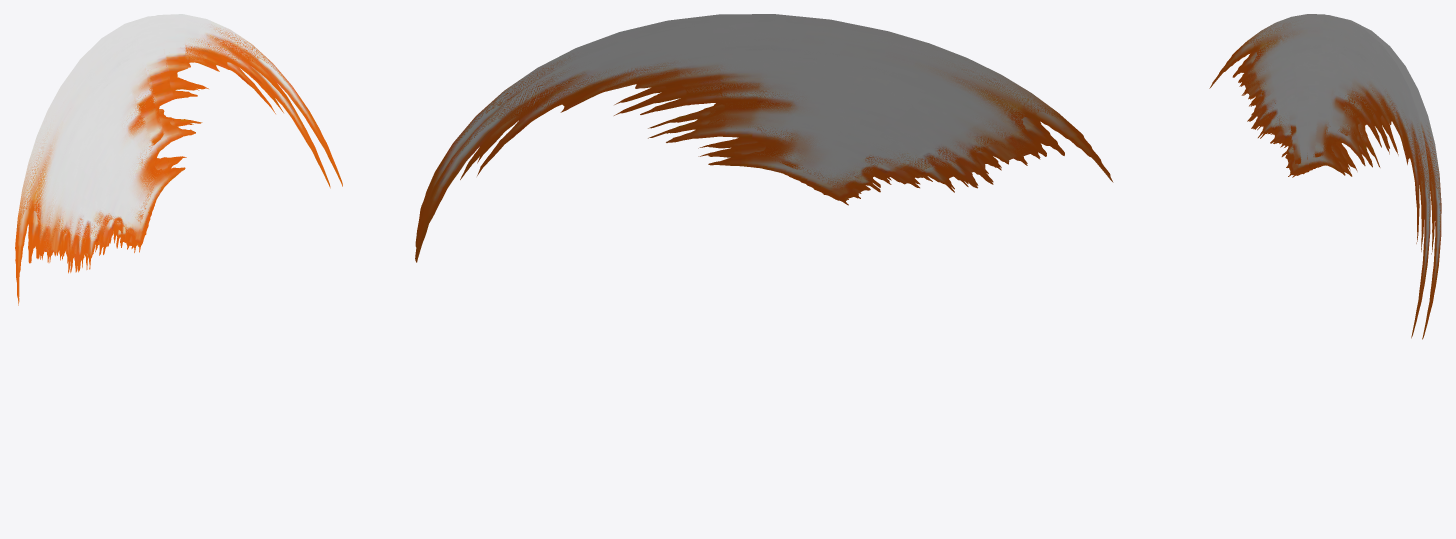
File: fx_cookie0001_front_skill01.fbx
3 views of the same model, side by side, from view 1: azimuth 30°, elevation 25°; view 2: azimuth 150°, elevation 25°; view 3: azimuth 270°, elevation 25° (orthographic). The views are drawn at different scales.
Parts seen in each view (by area): view 1: L_scratch2, L_scratch; view 2: L_scratch, L_scratch2; view 3: L_scratch2, L_scratch.
Part boxes in pixels (x1,y1,x2,y2): L_scratch2: (16, 14, 342, 305); L_scratch: (15, 16, 330, 300); L_scratch: (415, 22, 1113, 262); L_scratch2: (415, 14, 1109, 246); L_scratch2: (1209, 14, 1430, 338); L_scratch: (1211, 15, 1441, 339).
Size of the model in its own units: 316 by 314 by 176.
